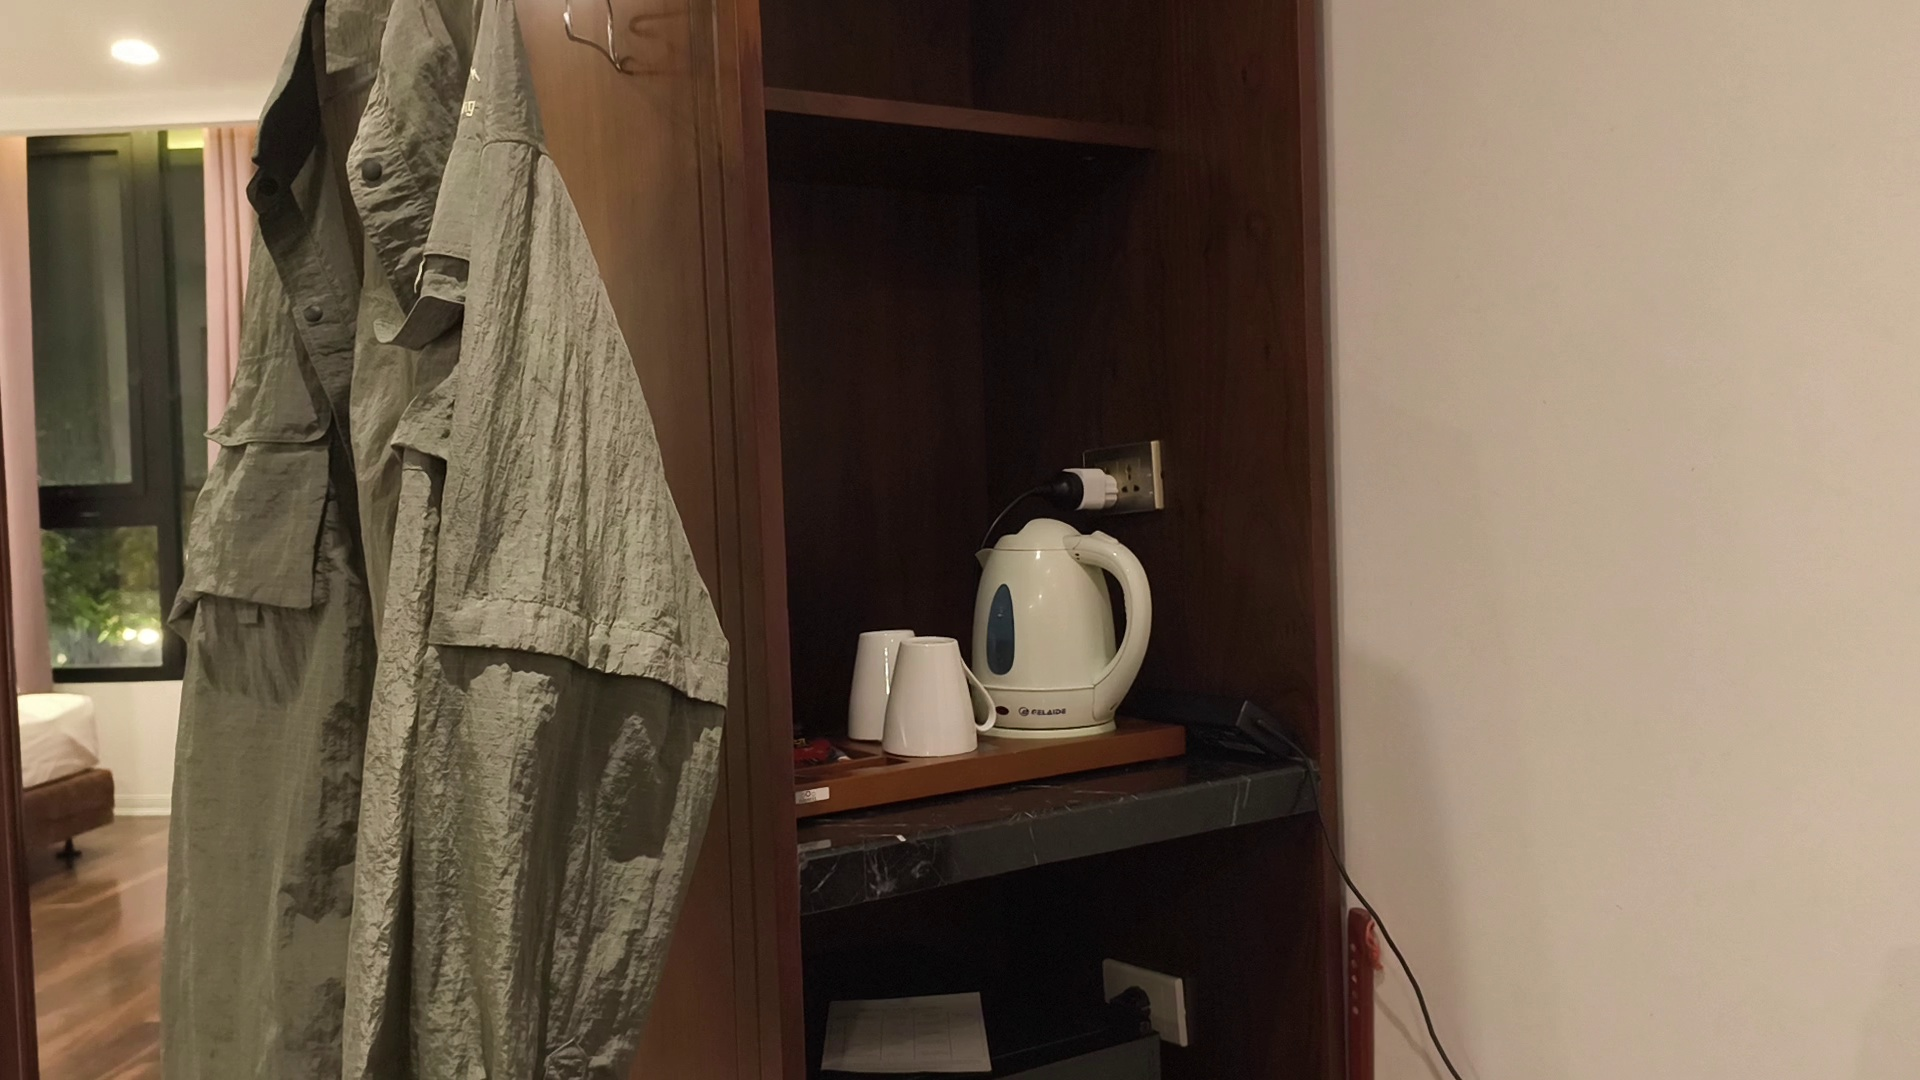cloth: (141, 104, 728, 1064)
cpu: (840, 630, 980, 760)
cup: (976, 520, 1146, 735)
dianxian: (1047, 443, 1141, 521)
windows: (9, 127, 185, 671)
